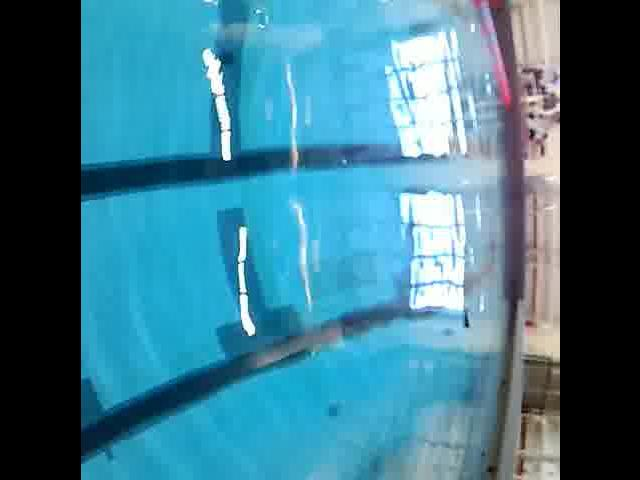CamMount: (454, 307, 474, 334)
